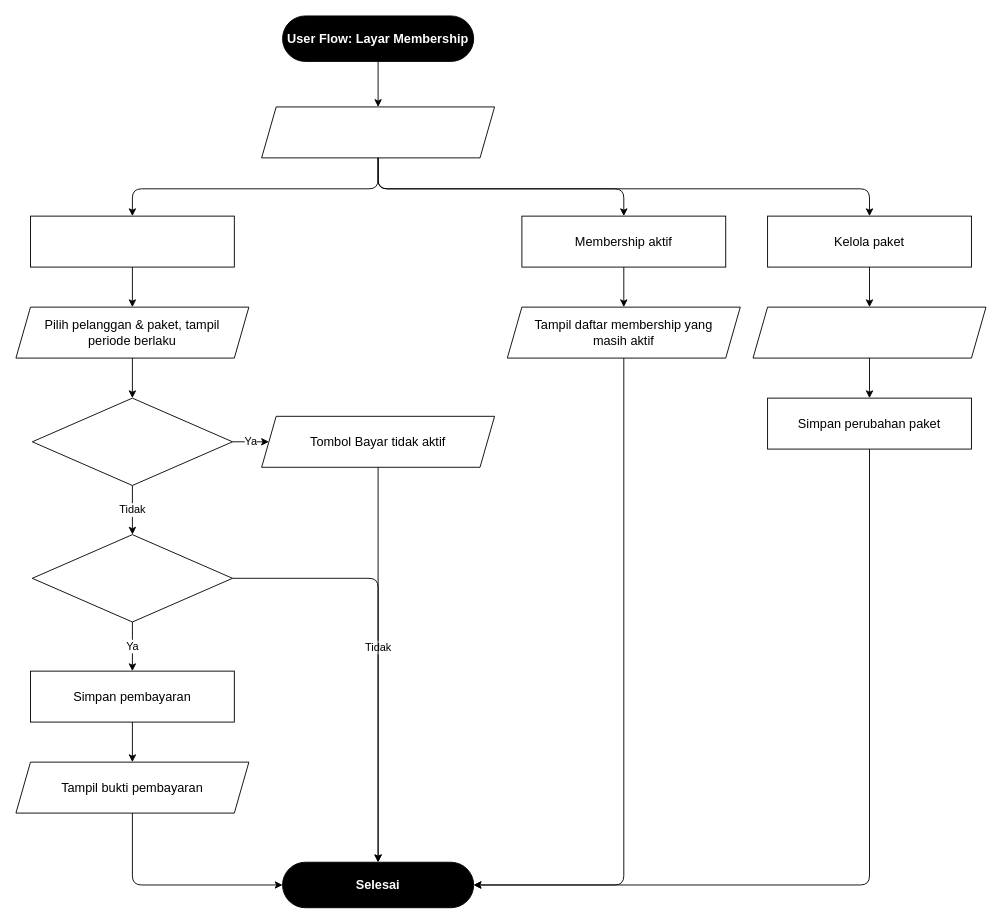
This 1002x924 diagram has some shape labels left out. Each missing label, with the centre of its shape:
Isi paket baru atau pilih paket yang diarsipkan: (x=869, y=332)
Jual membership: (x=132, y=241)
Konfirmasi pembayaran?: (x=132, y=578)
Membership lama masih berjalan?: (x=132, y=441)
User memilih tab: (x=378, y=132)
